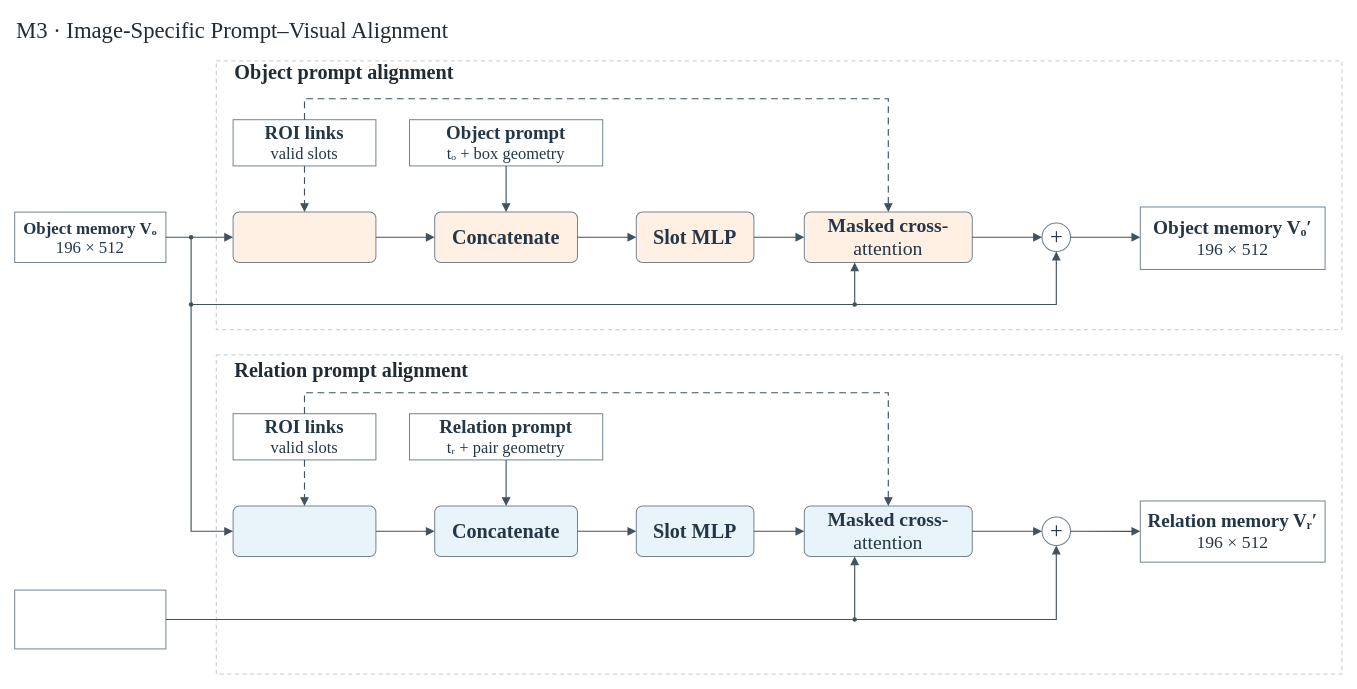
This 1357x689 diagram has some shape labels left out. The box of each missing label's shape, as (x1, y1, x2, y2) in pixels:
Object ROI pooling: (232, 211, 376, 263)
Relation memory Vᵣ 196 × 512: (14, 589, 166, 649)
Subject–object ROI pooling: (232, 505, 376, 557)
